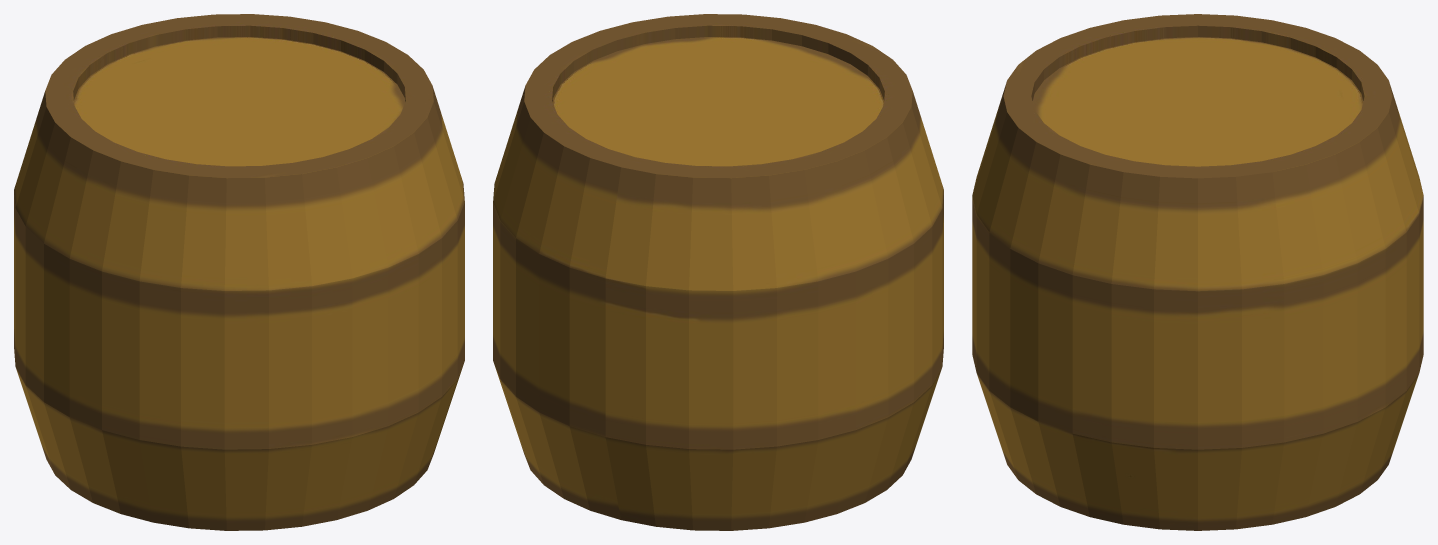
File: Barril_prefab.fbx
3 renders of one model, left to right at view 1: azimuth 30°, elevation 25°; view 2: azimuth 150°, elevation 25°; view 3: azimuth 270°, elevation 25°, orthographic.
Visible parts, largest first — view 1: Barril; view 2: Barril; view 3: Barril.
Part boxes in pixels (x1,y1,x2,y2): Barril: [14, 14, 464, 530]; Barril: [493, 14, 943, 530]; Barril: [972, 14, 1423, 530].
Bounding box in the file's own units: 3.48 × 3 × 3.48.
1 material, 1 textured.
